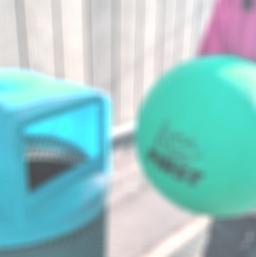algae: (132, 52, 256, 215)
